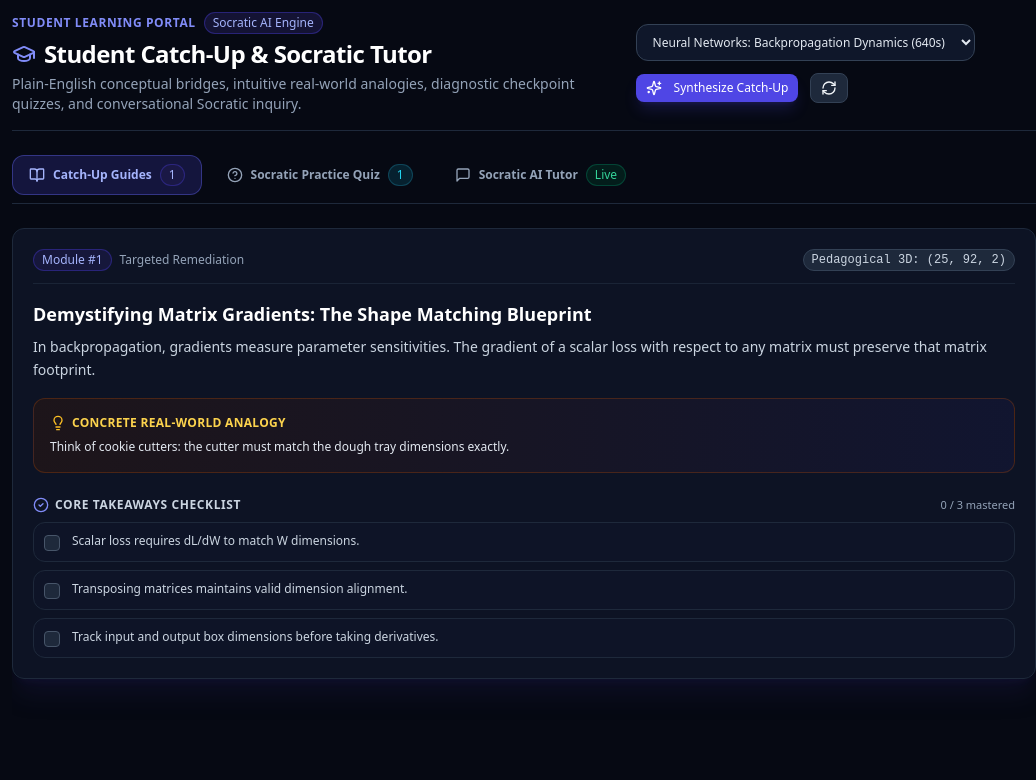
Test: Phase 7 Student Catch-Up & Socratic Tutor Tests › renders student catch-up guides with concrete analogy and interactive takeaway checklist
Check: the heading "Student Catch-Up & Socratic Tutor" is shown, box [12,37,432,70]
Check: the heading "Demystifying Matrix Gradients: The Shape Matching Blueprint" is shown, box [33,302,592,326]
// Toggle takeaway checkbox
Click the text "Scalar loss requires dL/dW to match W dimensions." at (216, 540), box [72,532,359,548]
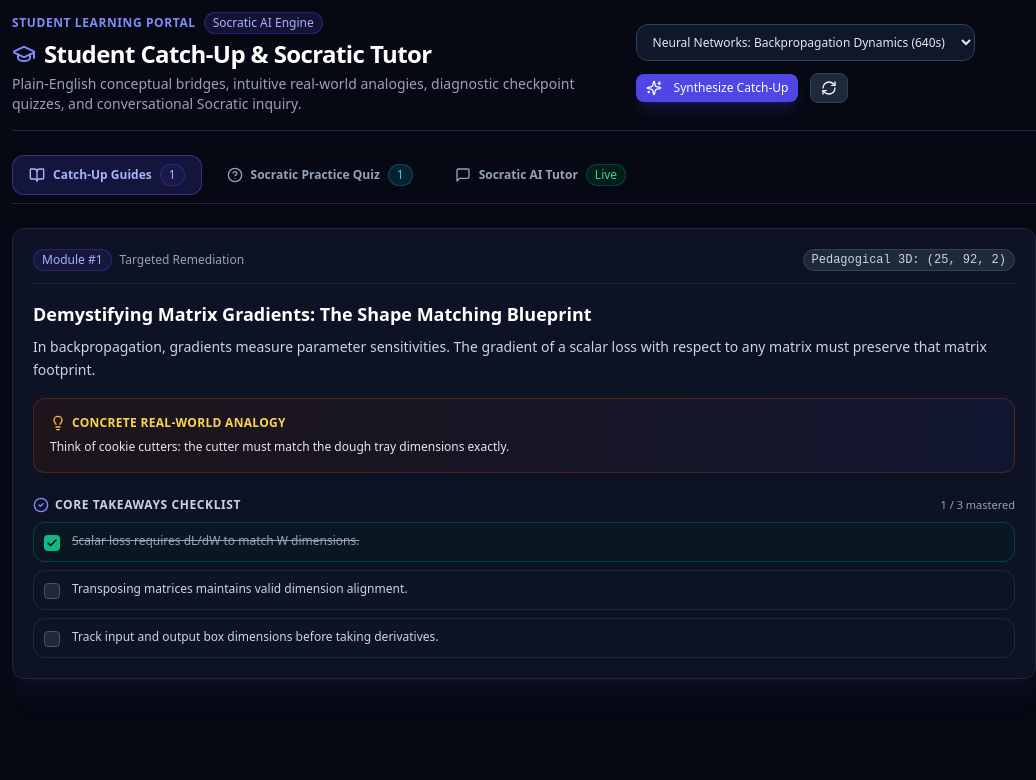
Check: the text "1 / 3 mastered" is shown, box [940,497,1015,514]
